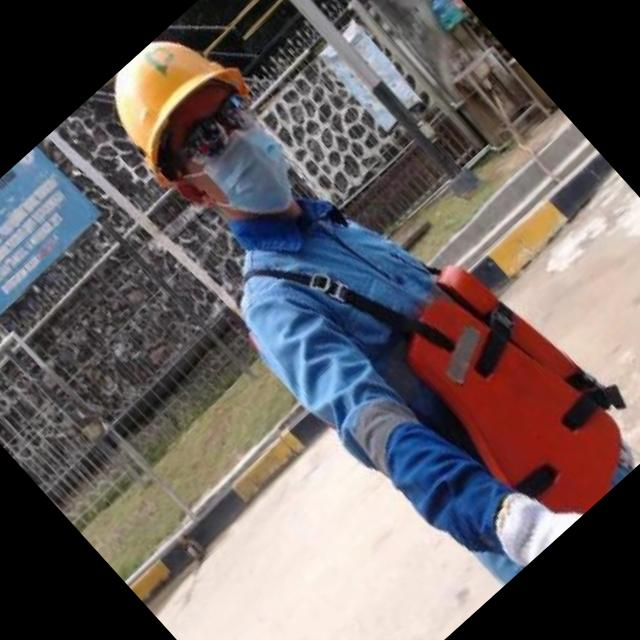hard_hat: (84, 11, 262, 188)
safety_vest: (202, 123, 640, 600)
